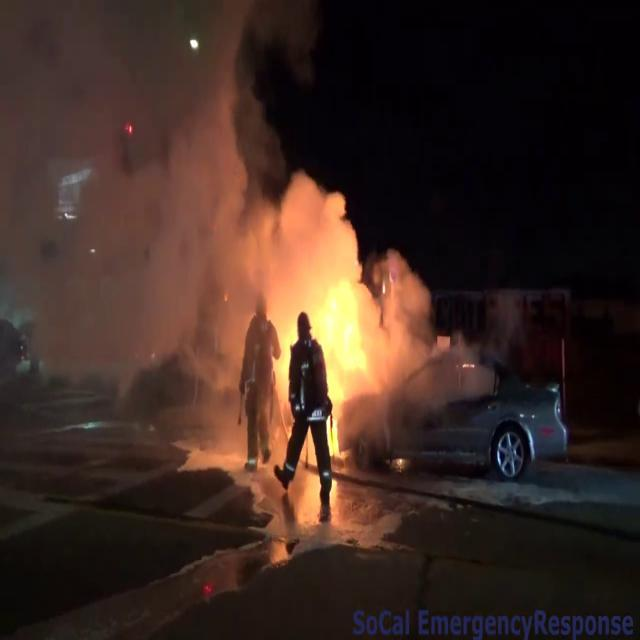Smoke: (0, 0, 336, 354), (280, 188, 470, 463)
